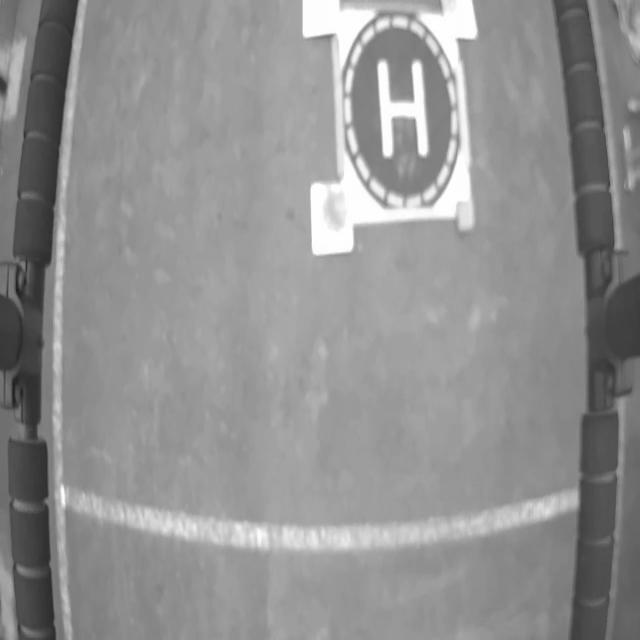Helipad: (378, 57, 430, 158)
